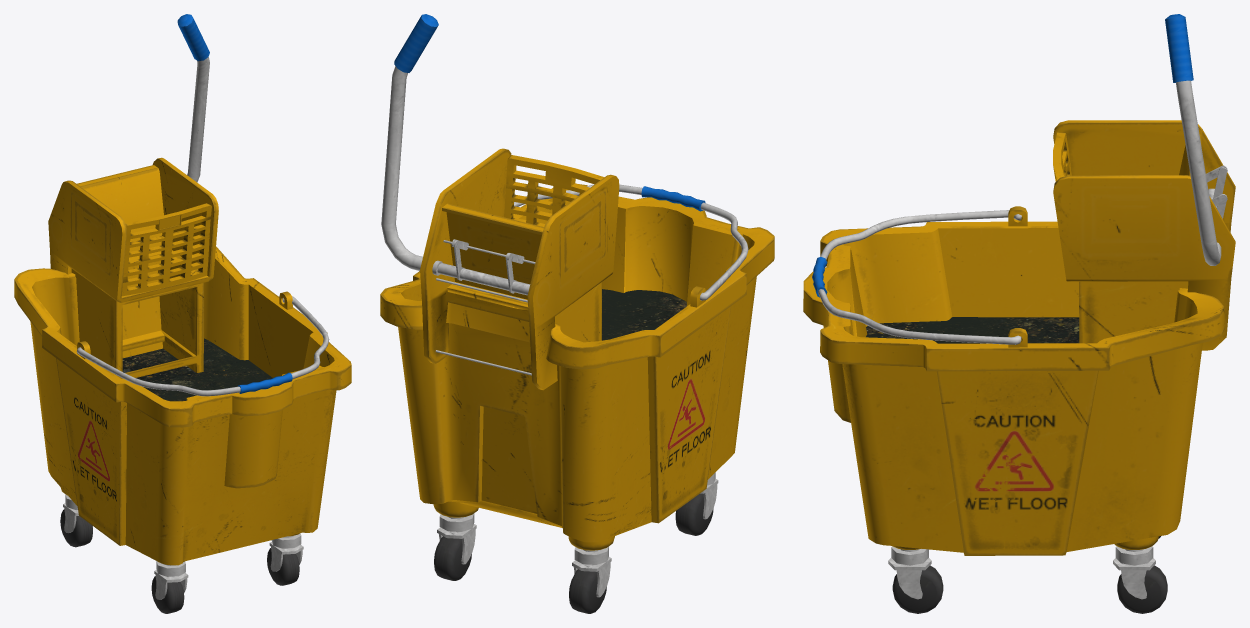
Rendered from Prop_CleaningBucket.fbx.
The picture shows the model from 3 angles, left to right: view 1: azimuth 30°, elevation 25°; view 2: azimuth 150°, elevation 25°; view 3: azimuth 270°, elevation 25°; orthographic projection. The views are drawn at different scales.
Visible parts, largest first — view 1: Prop_CleaningBucket; view 2: Prop_CleaningBucket; view 3: Prop_CleaningBucket.
Part boxes in pixels (x1,y1,x2,y2): Prop_CleaningBucket: [14, 14, 351, 613]; Prop_CleaningBucket: [380, 14, 774, 613]; Prop_CleaningBucket: [803, 14, 1235, 613].
Bounding box in the file's own units: 27.33 × 58.82 × 38.3.
